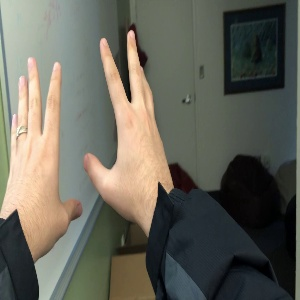hand: (84, 31, 174, 209), (4, 56, 83, 235)
